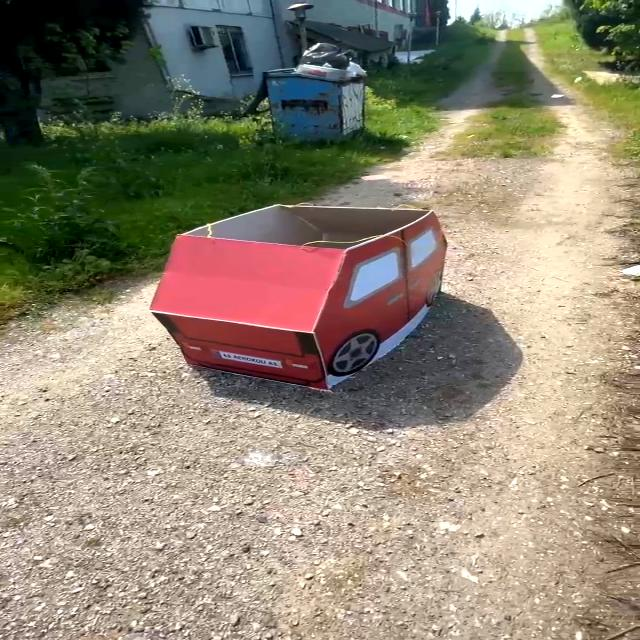red_car: (104, 179, 516, 406)
